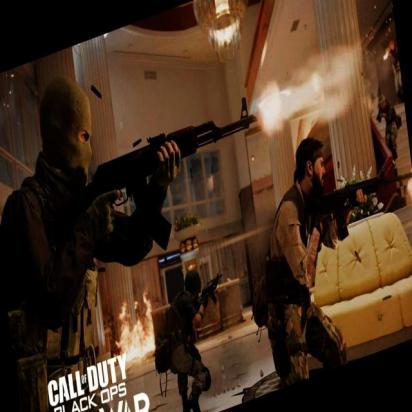Gun: (47, 107, 259, 255), (303, 170, 412, 239)
